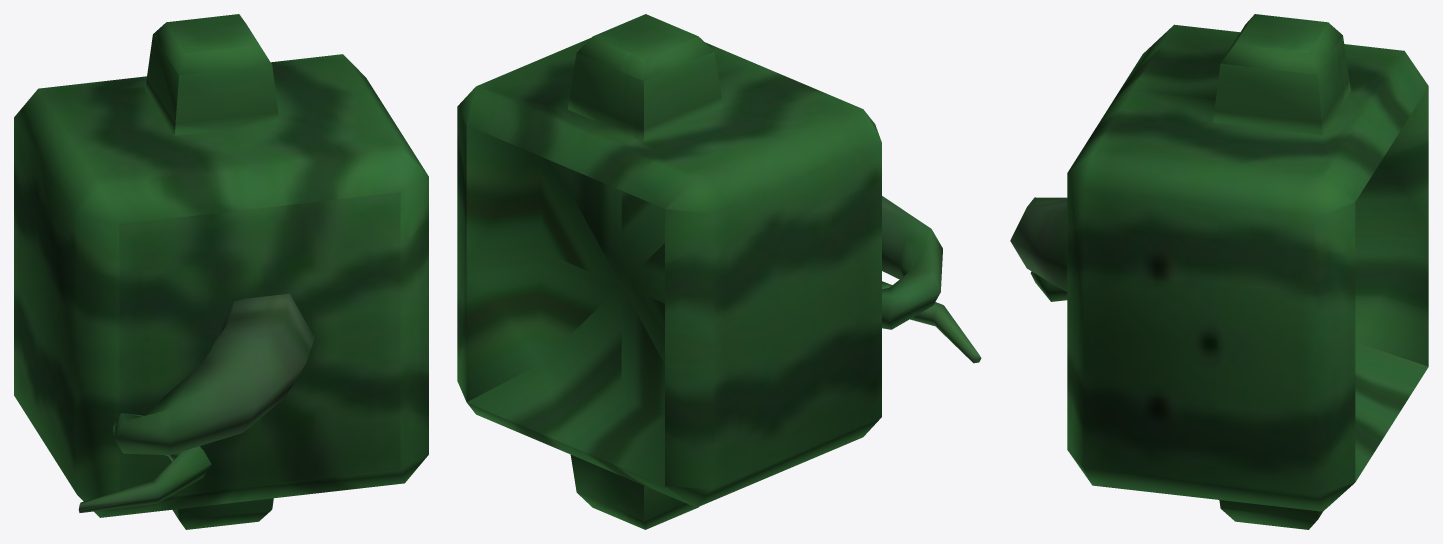
File: veggieHat.glb
The picture shows the model from 3 angles, left to right: view 1: azimuth 30°, elevation 25°; view 2: azimuth 150°, elevation 25°; view 3: azimuth 270°, elevation 25°; orthographic projection.
Visible parts, largest first — view 1: Mole_veggieHat_tri; view 2: Mole_veggieHat_tri; view 3: Mole_veggieHat_tri.
Part boxes in pixels (bbox=[...]): Mole_veggieHat_tri: bbox=[14, 14, 428, 529]; Mole_veggieHat_tri: bbox=[457, 14, 981, 529]; Mole_veggieHat_tri: bbox=[1010, 14, 1428, 529].
Size of the model in its own units: 0.4365 by 0.4864 by 0.387.
1 material, 1 textured.
